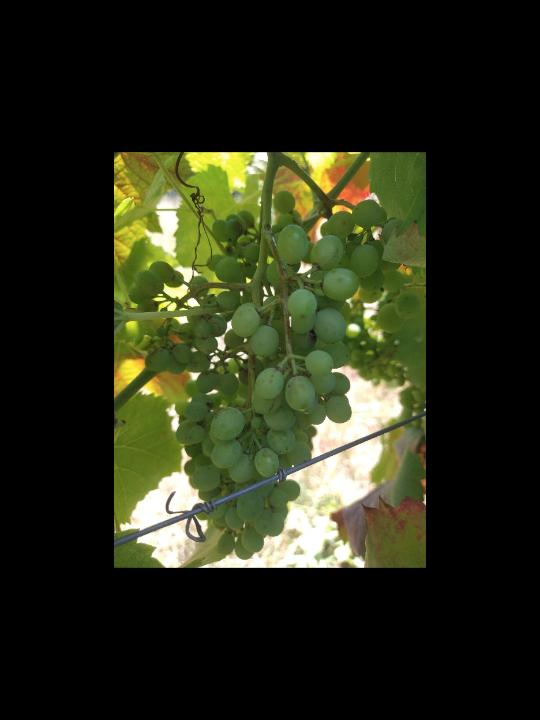grape: (127, 189, 419, 561)
